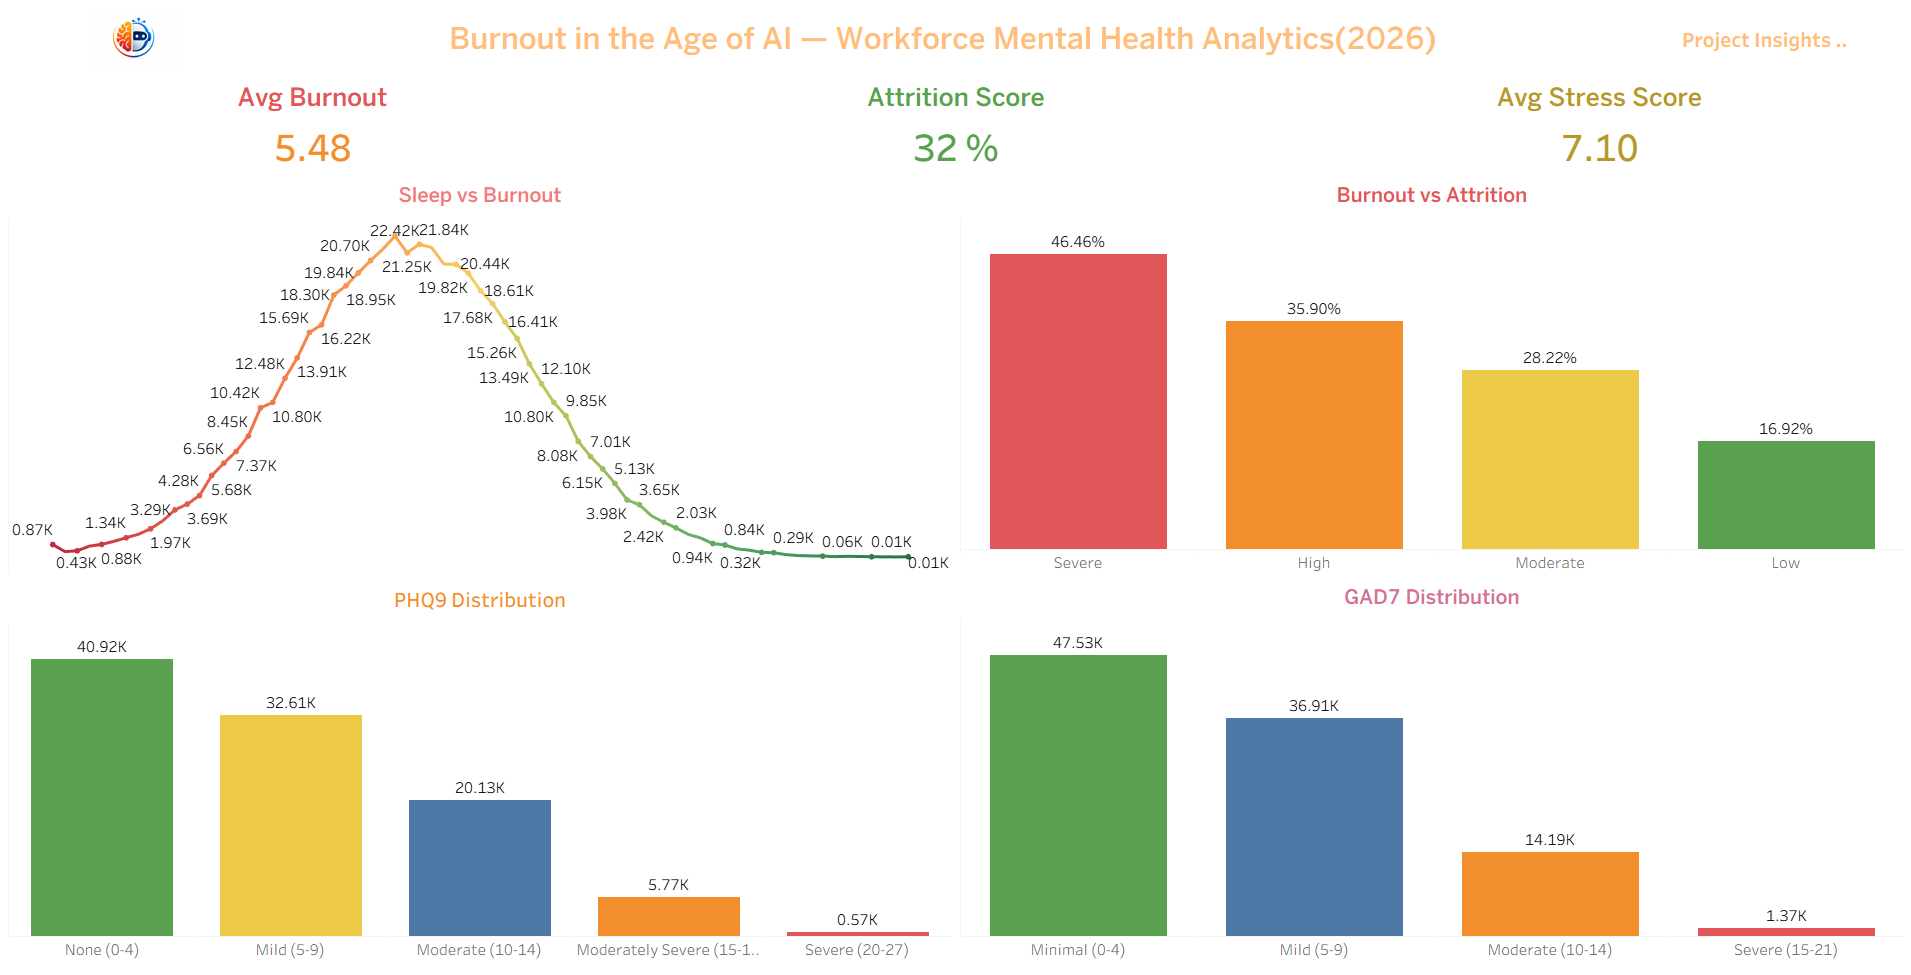

What the dashboard file says about the page in this screenshot:
{"tool":"tableau","page":{"name":"Executive Dashboard 2","canvas":[1000,1000],"units":"permille","ordinal":1},"visuals":[{"type":"image","param":"C:/Users/gptvi/Pictures/Burnout Image.png","box":[4.8,10,134.5,71.1]},{"type":"text","box":[139.3,10,707.3,71.1]},{"type":"dashboard-object","box":[846.7,10,148.5,71.1]},{"type":"worksheet","title":"KPI - Avg Burnout","mark":"Text","box":[4.8,81.1,321,101.1]},{"type":"worksheet","title":"KPI - Attrition","mark":"Text","box":[325.8,81.1,348.2,101.1]},{"type":"worksheet","title":"KPI - Average Stress Score","mark":"Text","box":[674.1,81.1,321.1,101.1]},{"type":"worksheet","title":"Sleep vs Burnout","mark":"Line","rows":["burnout_score"],"cols":["sleep_hours_per_night"],"box":[4.8,182.2,495.2,403.9]},{"type":"worksheet","title":"Burnout vs Attrition","mark":"Automatic","rows":["job_change_intention"],"cols":["burnout_level"],"box":[500,182.2,495.2,403.9]},{"type":"worksheet","title":"PHQ9 Distribution","mark":"Automatic","rows":["employee_id"],"cols":["phq9_category"],"box":[4.8,586.1,495.2,403.9]},{"type":"worksheet","title":"GAD7 Distribution","mark":"Automatic","rows":["employee_id"],"cols":["gad7_category"],"box":[500,586.1,495.2,403.9]}]}

Visuals, with their boxes on the dashboard's canvas, which has no fixed pixel size, in thousandths of its width and height (x1, y1, x2, y2). These are canvas units, not pixel positions in the 1911x975 screenshot, which may show the page scaled, cropped or inside an application window:
image: 5 10 139 81
text: 139 10 847 81
dashboard-object: 847 10 995 81
"KPI - Avg Burnout" worksheet (Text marks): 5 81 326 182
"KPI - Attrition" worksheet (Text marks): 326 81 674 182
"KPI - Average Stress Score" worksheet (Text marks): 674 81 995 182
"Sleep vs Burnout" worksheet (Line marks): 5 182 500 586
"Burnout vs Attrition" worksheet: 500 182 995 586
"PHQ9 Distribution" worksheet: 5 586 500 990
"GAD7 Distribution" worksheet: 500 586 995 990
